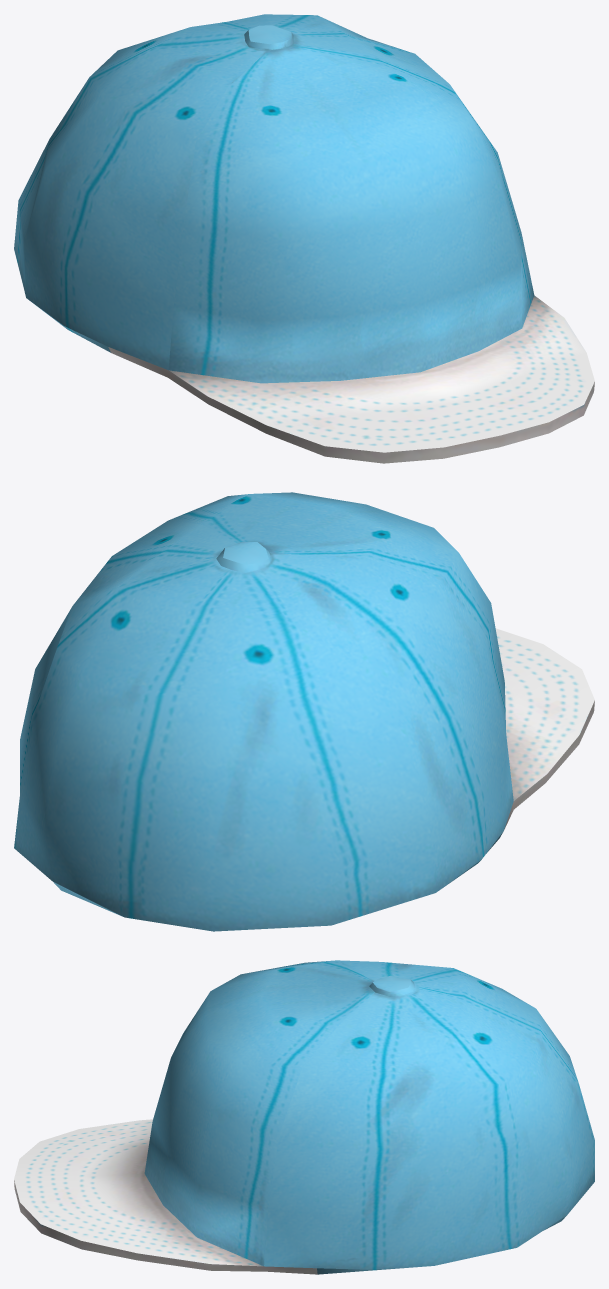
File: Hat_Blue.fbx
3 views of the same model, one above another, from view 1: azimuth 30°, elevation 25°; view 2: azimuth 150°, elevation 25°; view 3: azimuth 270°, elevation 25° (orthographic). The views are drawn at different scales.
Parts seen in each view (by area): view 1: Hat_Blue; view 2: Hat_Blue; view 3: Hat_Blue.
Boxes of the visible parts, <box> form: Hat_Blue: <box>14,14,594,463</box>; Hat_Blue: <box>14,492,594,931</box>; Hat_Blue: <box>14,960,594,1274</box>.
Bounding box in the file's own units: 0.2378 × 0.1458 × 0.3546.
